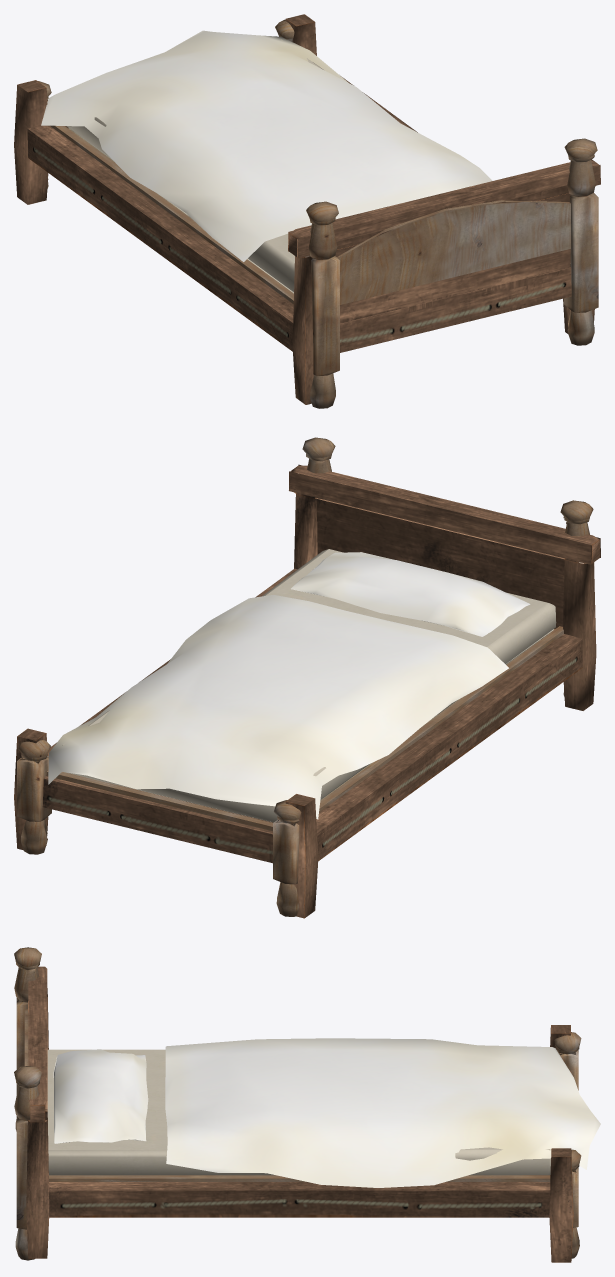
File: bed1.glb
The picture shows the model from 3 angles, top to bottom: view 1: azimuth 30°, elevation 25°; view 2: azimuth 150°, elevation 25°; view 3: azimuth 270°, elevation 25°; orthographic projection. The views are drawn at different scales.
Parts seen in each view (by area): view 1: bed2, bed1; view 2: bed2, bed1; view 3: bed2, bed1.
Part boxes in pixels (bbox=[...]): bed2: bbox=[38, 19, 598, 408]; bed1: bbox=[14, 14, 600, 404]; bed2: bbox=[17, 437, 594, 916]; bed1: bbox=[14, 464, 600, 918]; bed2: bbox=[14, 947, 600, 1260]; bed1: bbox=[26, 966, 573, 1262].
Size of the model in its own units: 1.71 by 1.08 by 3.05.
Materials: 2 (2 with a texture image).
